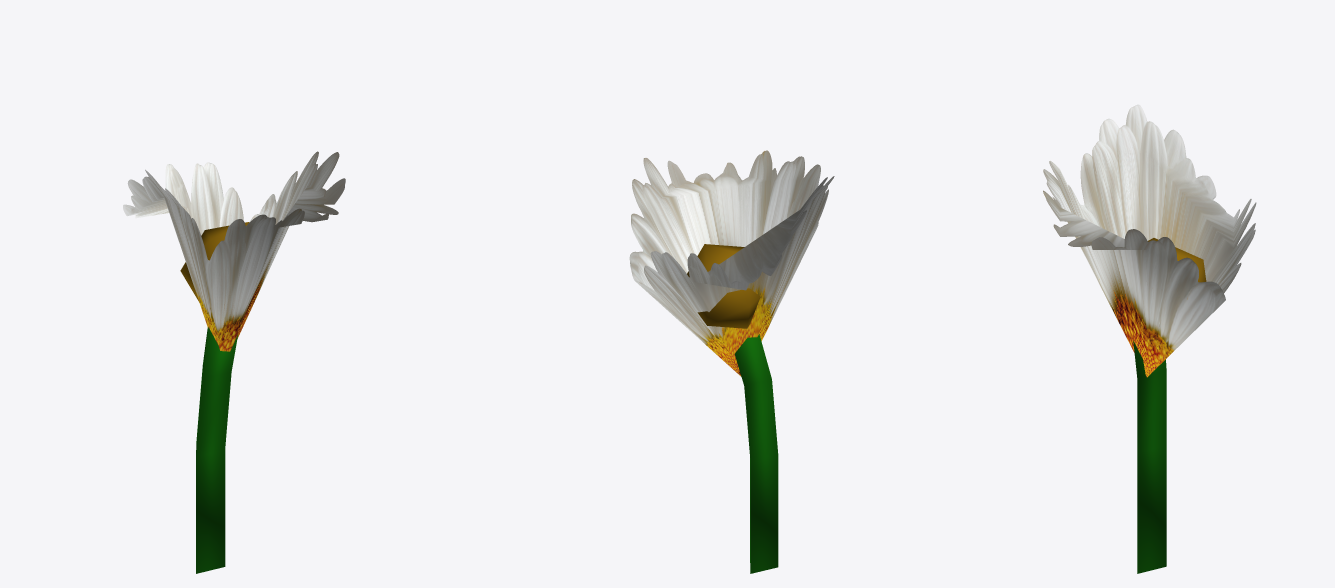
The model's file is Daisie.fbx.
3 renders of one model, left to right at view 1: azimuth 30°, elevation 25°; view 2: azimuth 150°, elevation 25°; view 3: azimuth 270°, elevation 25°, orthographic. The views are drawn at different scales.
Parts seen in each view (by area): view 1: Cylinder.001; view 2: Cylinder.001; view 3: Cylinder.001.
Boxes of the visible parts, x1=… form: Cylinder.001: x1=123, y1=151, x2=345, y2=573; Cylinder.001: x1=629, y1=150, x2=834, y2=573; Cylinder.001: x1=1043, y1=104, x2=1256, y2=573.
Size of the model in its own units: 5.02 by 7.95 by 5.02.
